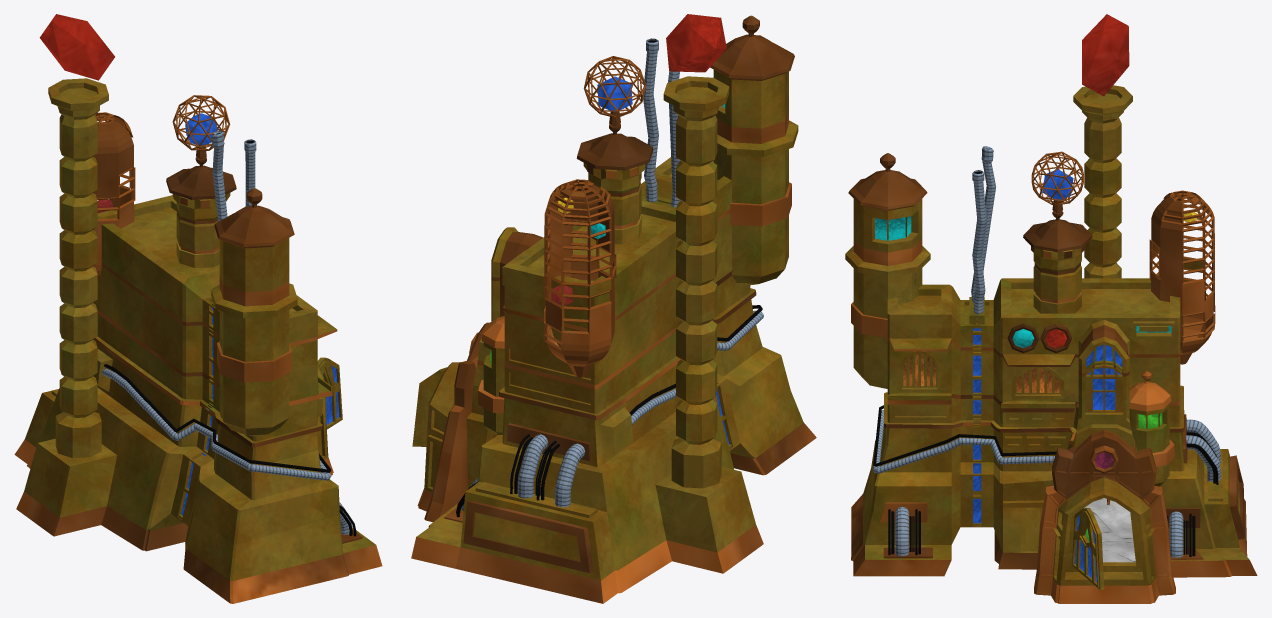
File: Labo+1.glb
3 views of the same model, side by side, from view 1: azimuth 30°, elevation 25°; view 2: azimuth 150°, elevation 25°; view 3: azimuth 270°, elevation 25° (orthographic). The views are drawn at different scales.
Parts seen in each view (by area): view 1: Labo_1; view 2: Labo_1; view 3: Labo_1.
Boxes of the visible parts, x1=… form: Labo_1: x1=14, y1=14, x2=382, y2=603; Labo_1: x1=411, y1=14, x2=816, y2=603; Labo_1: x1=845, y1=14, x2=1257, y2=603.
Bounding box in the file's own units: 2.14 × 3.3 × 2.62.
21 materials, 13 textured.
